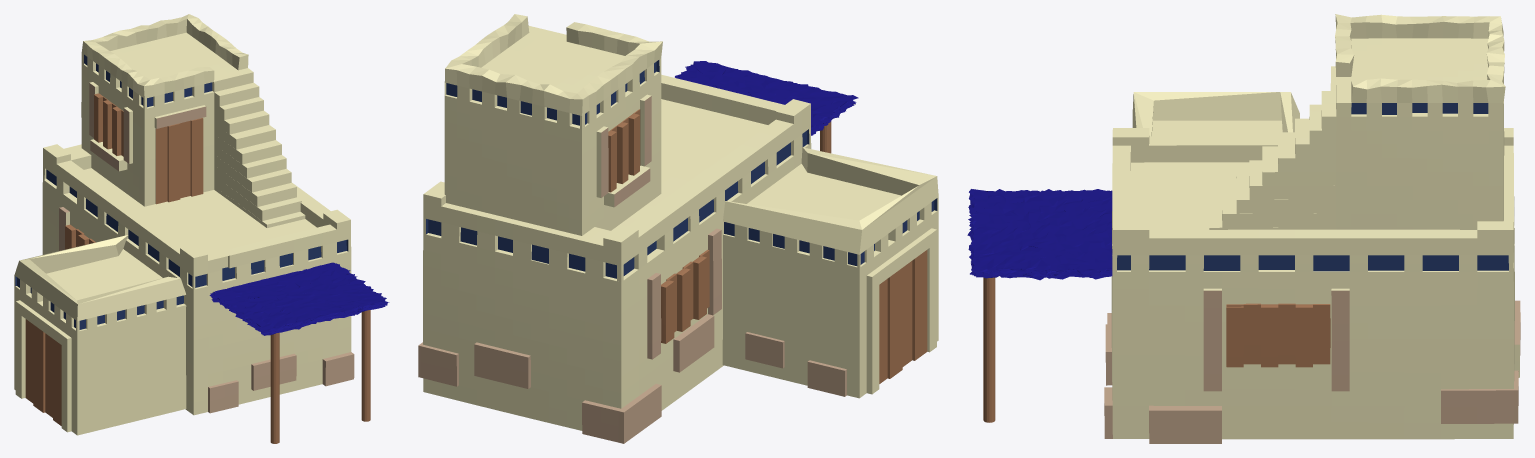
Rendered from dom2.fbx.
3 renders of one model, left to right at view 1: azimuth 30°, elevation 25°; view 2: azimuth 150°, elevation 25°; view 3: azimuth 270°, elevation 25°, orthographic. The views are drawn at different scales.
Visible parts, largest first — view 1: Cube.001, Cube.003, Cube.002, Cube.011, Cube.007, Cube.004, Cube.008, Cube.010, Cube.009, Cube.005; view 2: Cube.001, Cube.002, Cube.003, Cube.004, Cube.011, Cube.005, Cube.008; view 3: Cube.001, Cube.003, Cube.011, Cube.002, Cube.006, Cube.010.
Boxes of the visible parts, bbox=[...] form: Cube.001: bbox=[42, 144, 354, 415]; Cube.003: bbox=[81, 14, 305, 227]; Cube.002: bbox=[14, 235, 186, 435]; Cube.011: bbox=[209, 262, 389, 335]; Cube.007: bbox=[155, 118, 203, 204]; Cube.004: bbox=[25, 319, 61, 425]; Cube.008: bbox=[94, 93, 123, 156]; Cube.010: bbox=[361, 310, 370, 421]; Cube.009: bbox=[270, 332, 279, 443]; Cube.005: bbox=[65, 224, 95, 249]; Cube.001: bbox=[418, 74, 811, 443]; Cube.002: bbox=[722, 147, 938, 398]; Cube.003: bbox=[444, 14, 662, 235]; Cube.004: bbox=[879, 250, 927, 383]; Cube.011: bbox=[675, 61, 858, 135]; Cube.005: bbox=[661, 249, 709, 343]; Cube.008: bbox=[608, 109, 640, 192]; Cube.001: bbox=[1104, 128, 1520, 443]; Cube.003: bbox=[1196, 14, 1505, 229]; Cube.011: bbox=[967, 189, 1112, 280]; Cube.002: bbox=[1132, 92, 1299, 136]; Cube.006: bbox=[1226, 303, 1330, 367]; Cube.010: bbox=[983, 277, 995, 422].
Size of the model in its own units: 2442 by 3167 by 2194.
